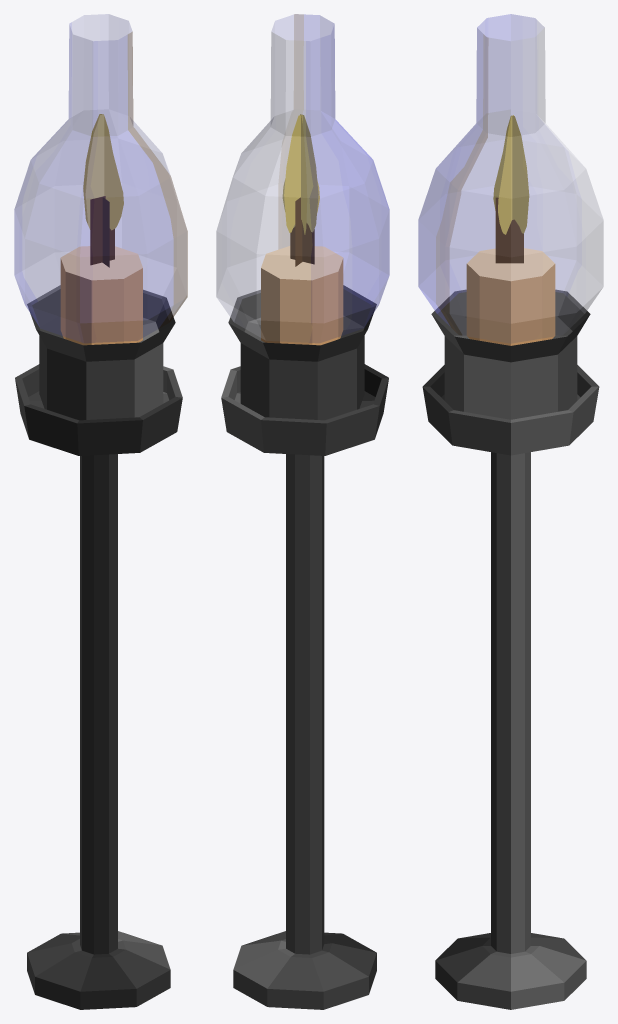
File: candle_338x15.gltf
3 views of the same model, side by side, from view 1: azimuth 30°, elevation 25°; view 2: azimuth 150°, elevation 25°; view 3: azimuth 270°, elevation 25° (orthographic).
Parts seen in each view (by area): view 1: candle_338x15; view 2: candle_338x15; view 3: candle_338x15.
Boxes of the visible parts, x1,y1,x2,y2 form: candle_338x15: [14, 14, 187, 1009]; candle_338x15: [216, 14, 389, 1009]; candle_338x15: [418, 14, 603, 1009].
Bounding box in the file's own units: 0.3817 × 2.27 × 0.401.
2 materials, 2 textured.
